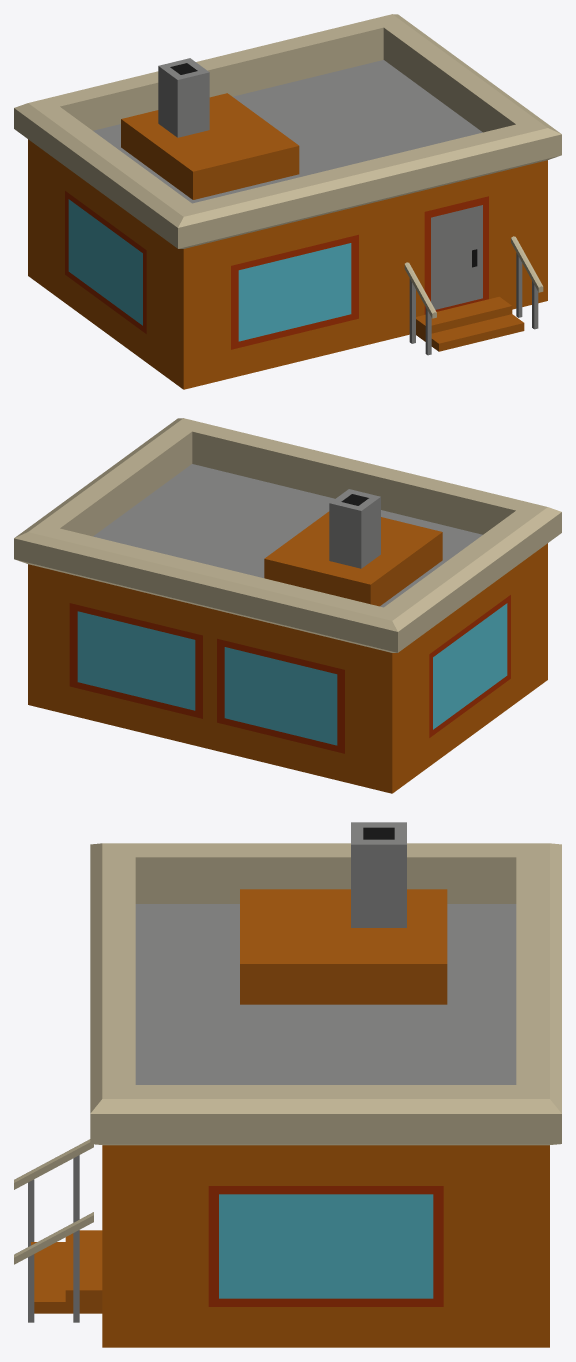
The model's file is House 4.1.fbx.
3 views of the same model, one above another, from view 1: azimuth 30°, elevation 25°; view 2: azimuth 150°, elevation 25°; view 3: azimuth 270°, elevation 25° (orthographic). The views are drawn at different scales.
Visible parts, largest first — view 1: House_01; view 2: House_01; view 3: House_01.
Boxes of the visible parts, left/top/right/bottom form: House_01: left=14, top=14, right=561, bottom=389; House_01: left=14, top=418, right=561, bottom=793; House_01: left=14, top=822, right=561, bottom=1347.
Size of the model in its own units: 354 by 200 by 304.
